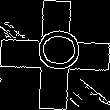O_W: (29, 33, 81, 77)
